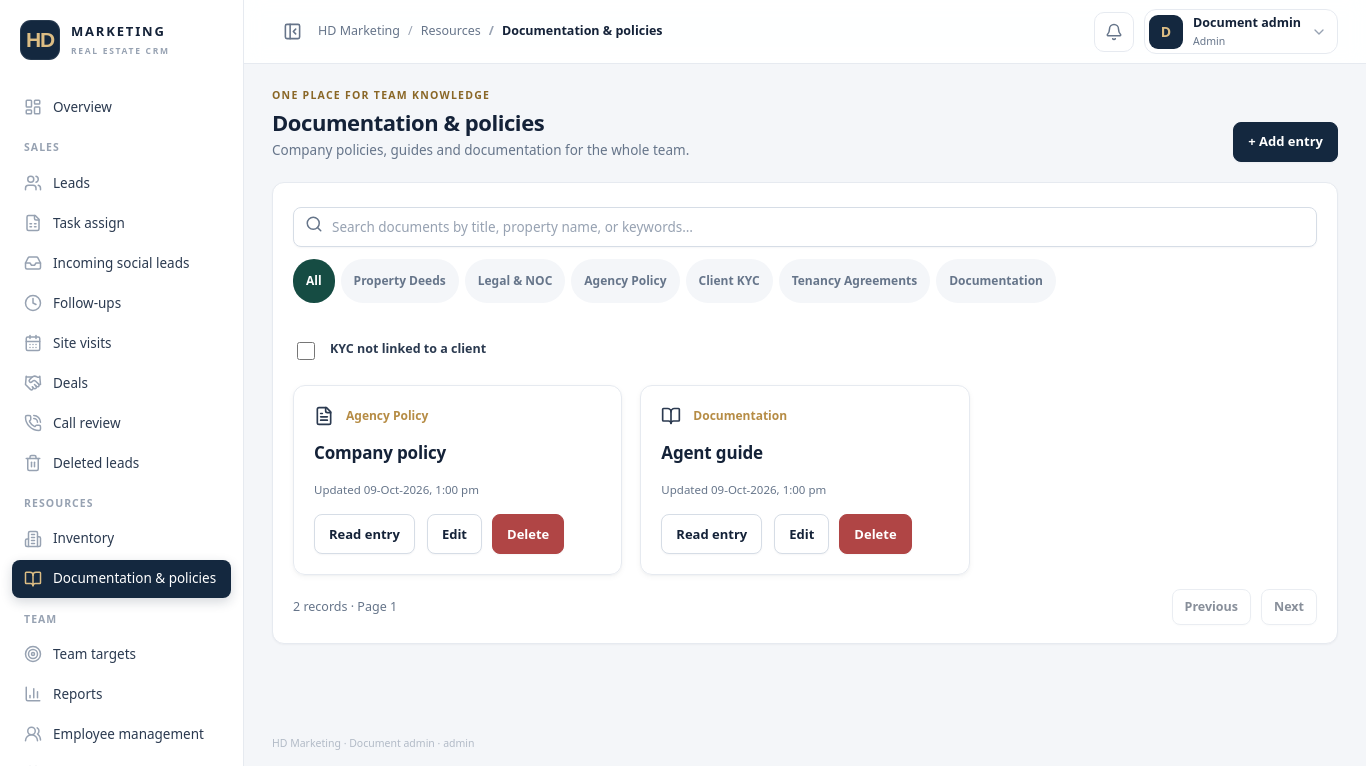
Test: documentation and policies workspace › creates written policies with no attachment requirement
Click the button "+ Add entry": (1286, 142) x1=1233 y1=122 x2=1338 y2=162
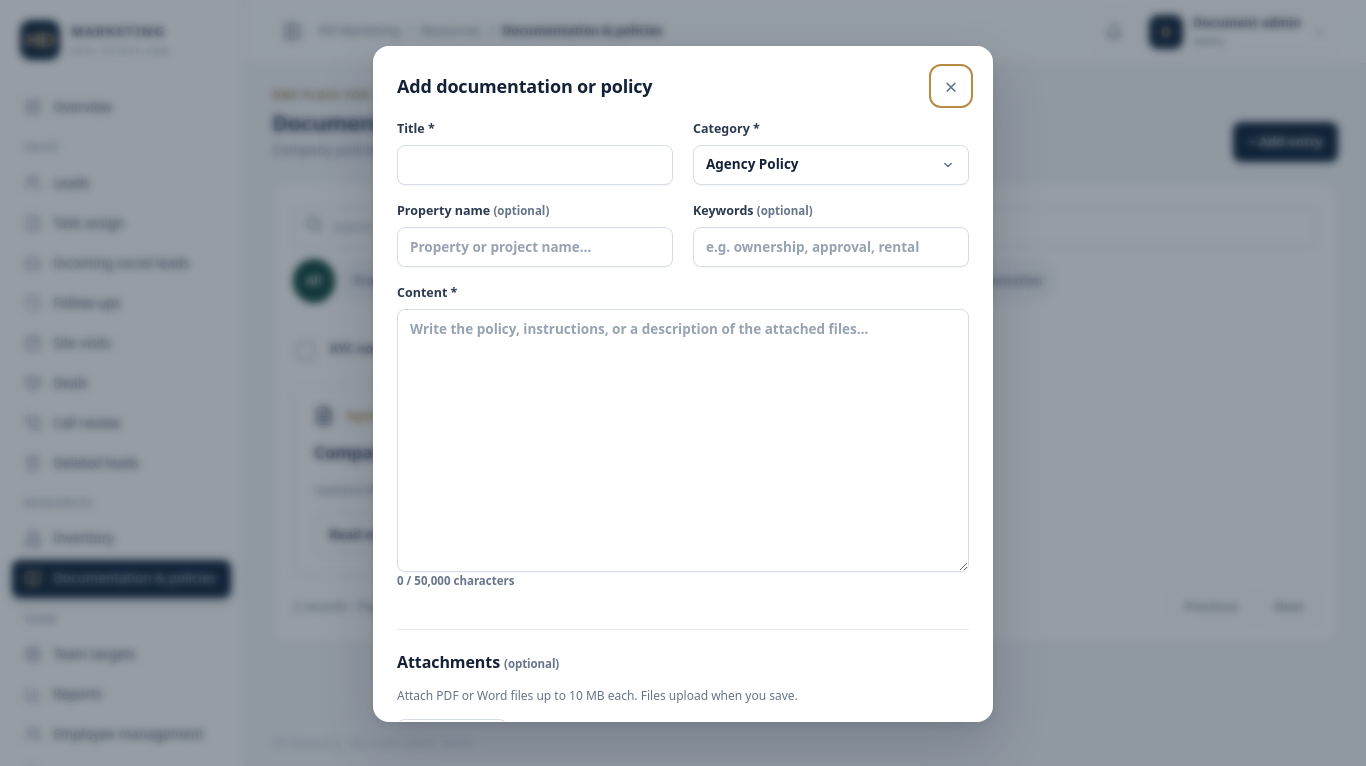
In the field labelled "Title": (535, 165) x1=397 y1=145 x2=673 y2=185, type "New policy"
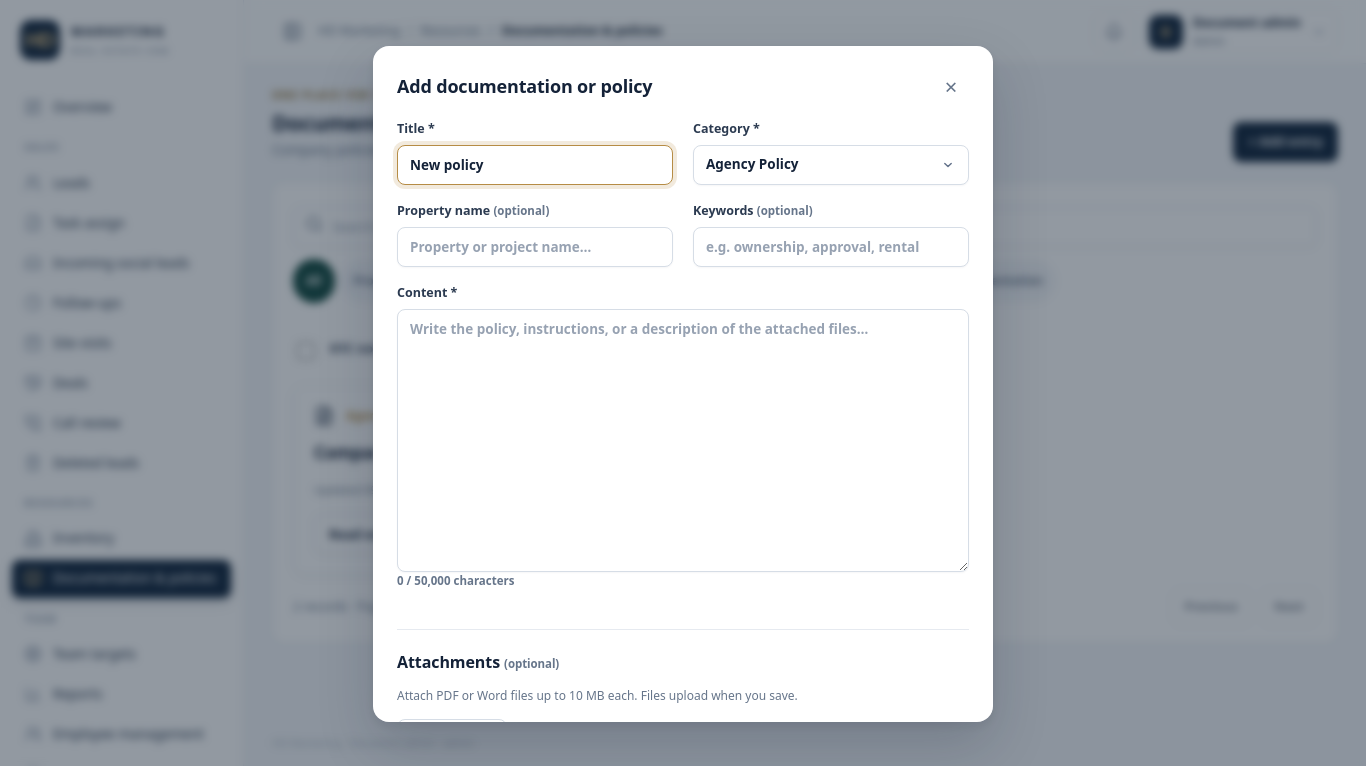
In the text box labelled "Content": (683, 440) x1=397 y1=309 x2=969 y2=572, type "Policy body"
(page scrolled)
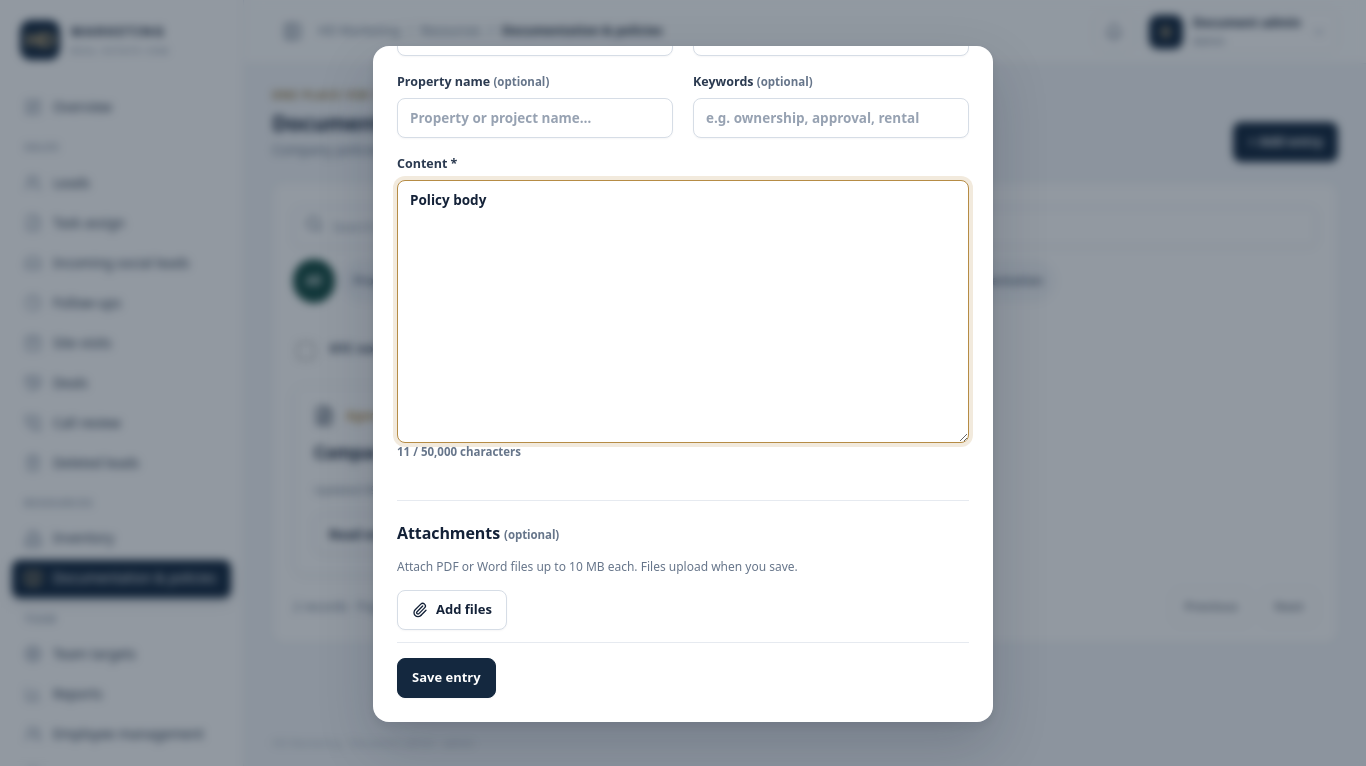
Click the button "Save entry": (446, 678) x1=397 y1=658 x2=496 y2=698
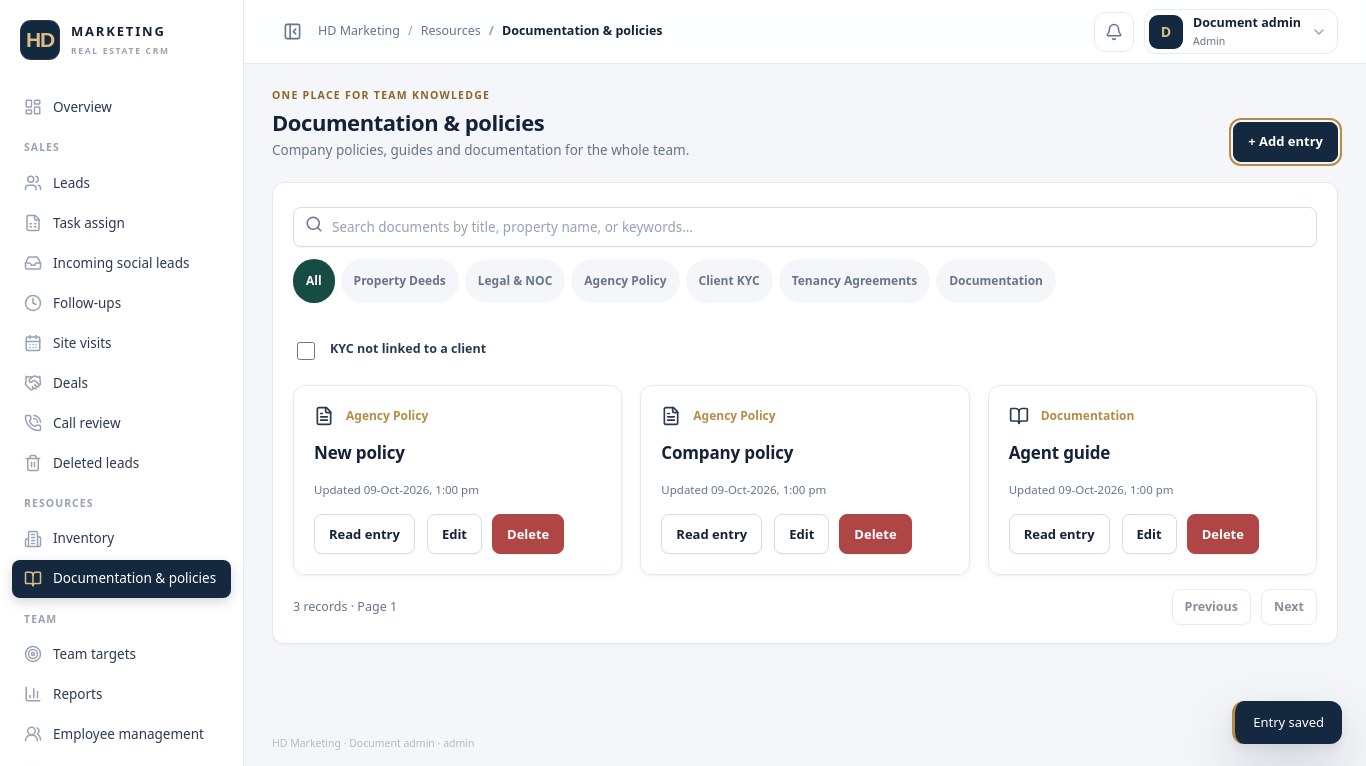
Expected: the text "Entry saved" is shown, x1=1232 y1=700 x2=1342 y2=744
Expected: the link "New policy" is shown, x1=314 y1=441 x2=405 y2=464
